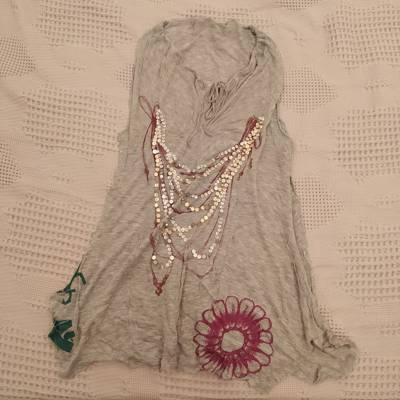Dress: (41, 19, 337, 380)
